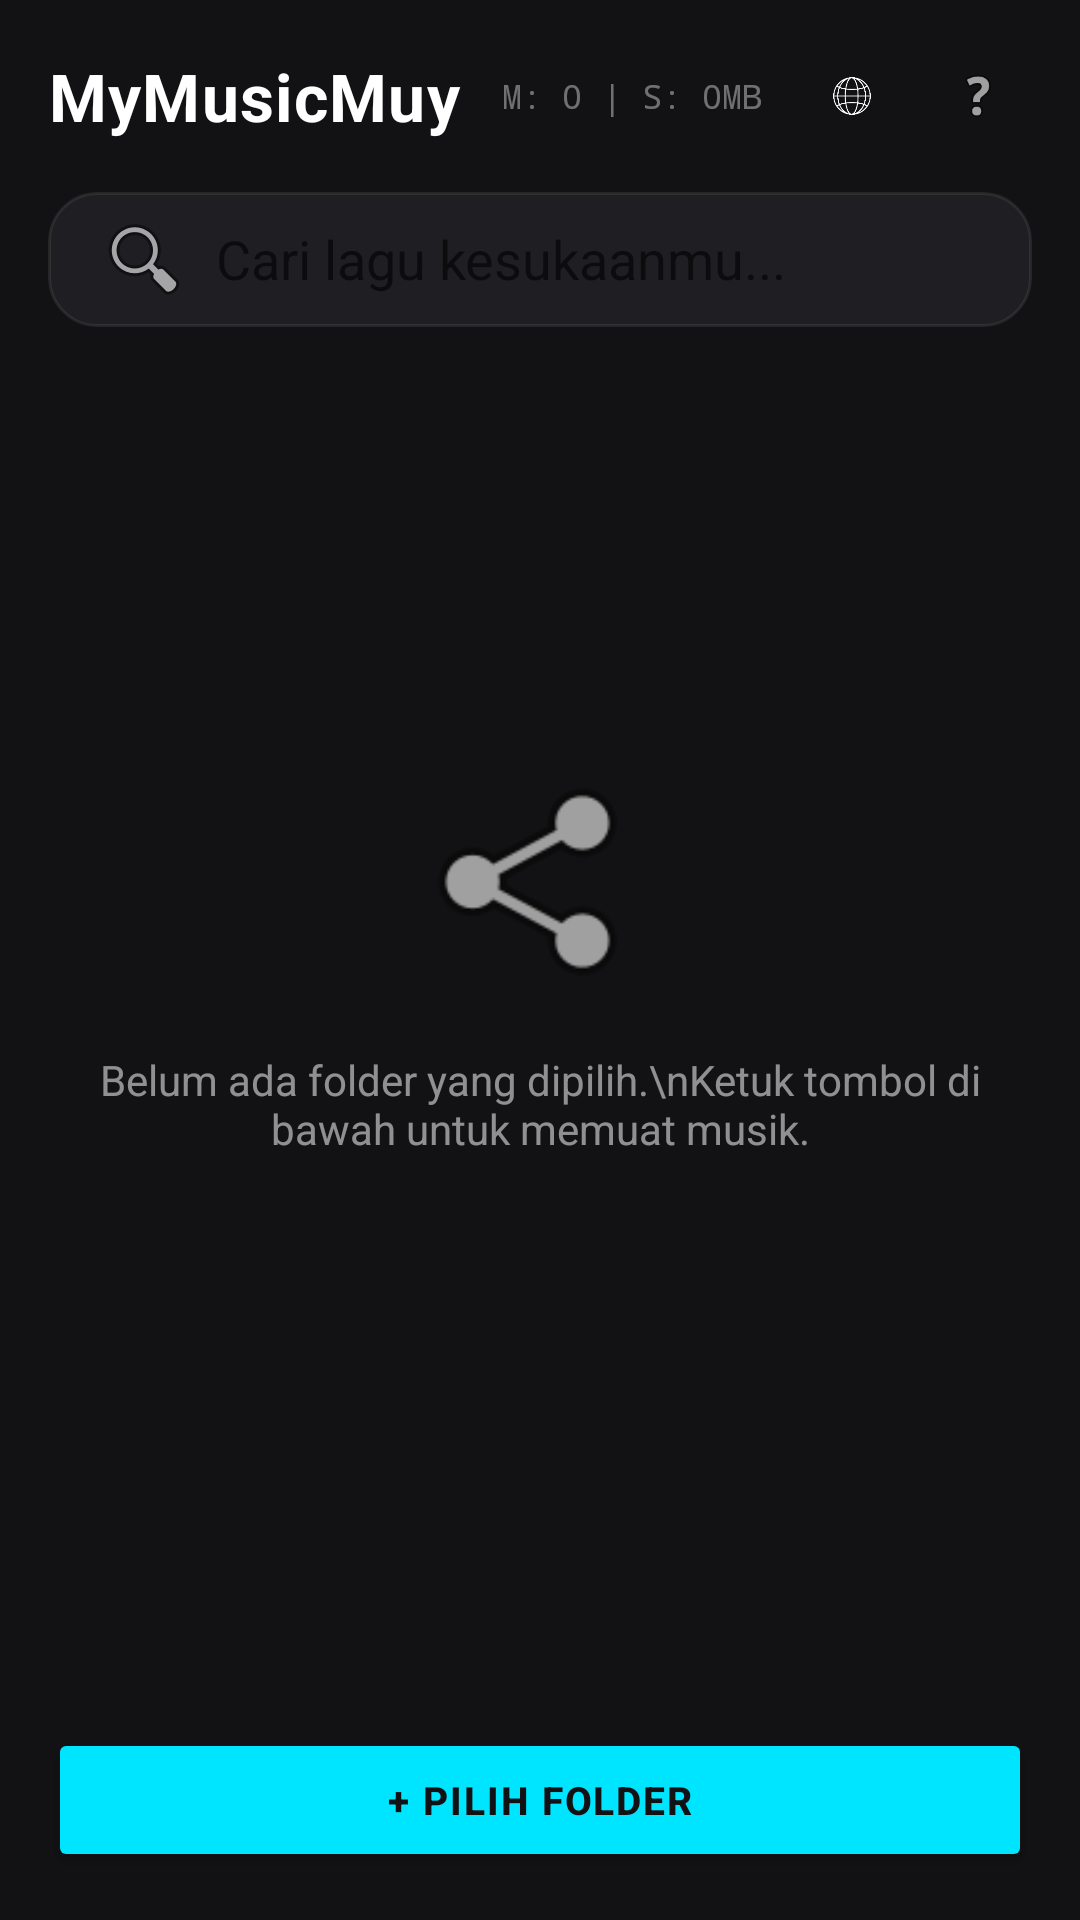

Screen size 1080 × 1920. Icon name, then its center in pixels as (x,y):
browser: (852,96)
help: (978,96)
share: (527,881)
